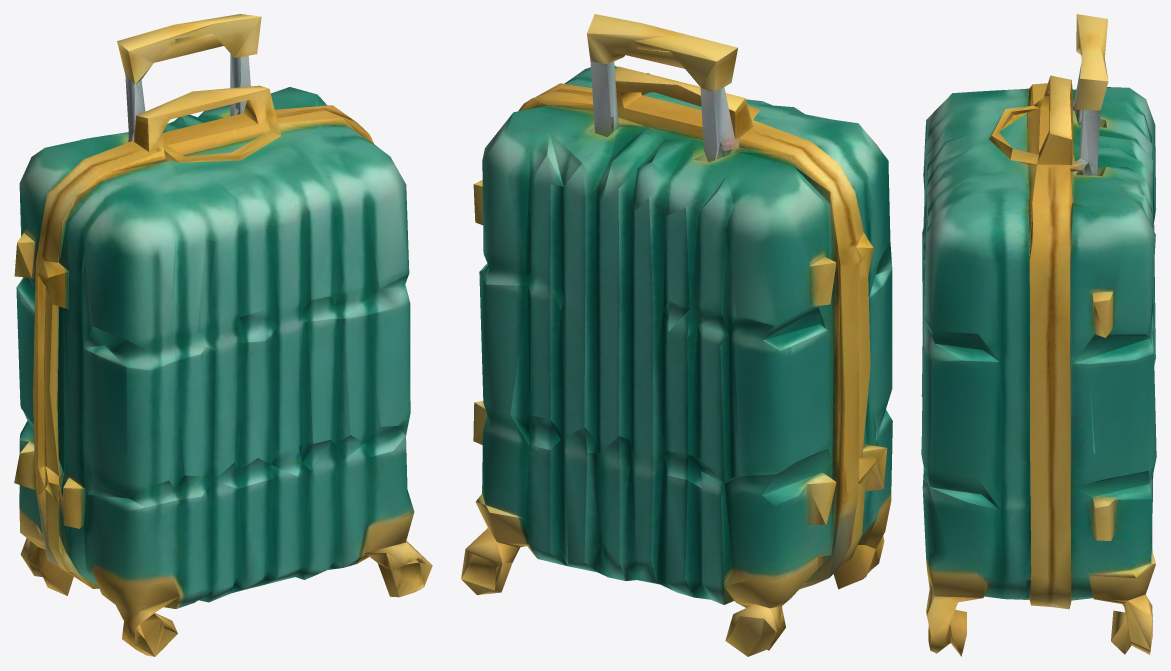
File: hardCaseTeal.glb
3 renders of one model, left to right at view 1: azimuth 30°, elevation 25°; view 2: azimuth 150°, elevation 25°; view 3: azimuth 270°, elevation 25°, orthographic. The views are drawn at different scales.
Visible parts, largest first — view 1: model; view 2: model; view 3: model.
Boxes of the visible parts, x1=… form: model: x1=14, y1=14, x2=432, y2=656; model: x1=461, y1=14, x2=892, y2=656; model: x1=921, y1=14, x2=1156, y2=656.
Bounding box in the file's own units: 1.23 × 1.91 × 0.7456.
1 material, 1 textured.
